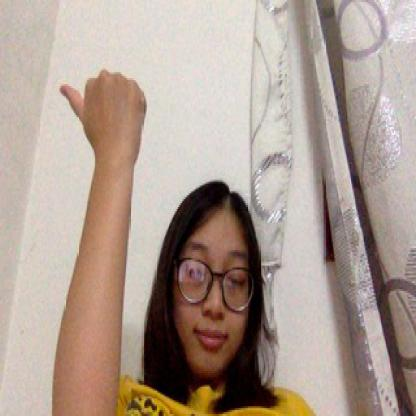right: (57, 66, 150, 168)
